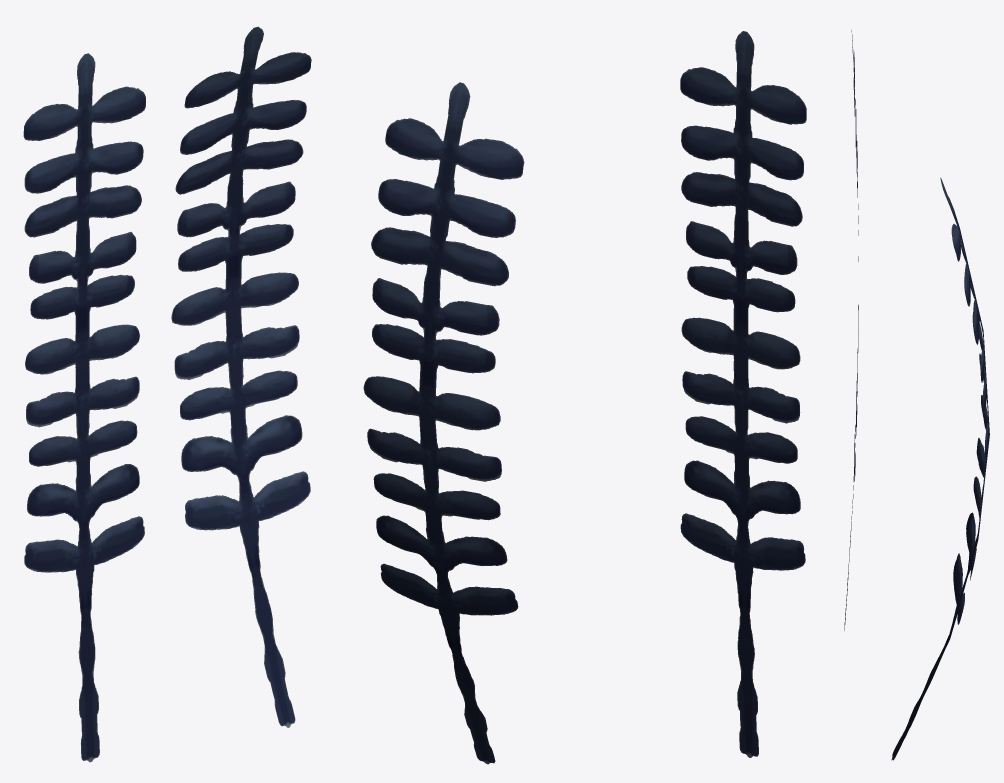
File: blue ferns.fbx
3 renders of one model, left to right at view 1: azimuth 30°, elevation 25°; view 2: azimuth 150°, elevation 25°; view 3: azimuth 270°, elevation 25°, orthographic. The views are drawn at different scales.
Visible parts, largest first — view 1: blue_fern14, blue_fern16; view 2: blue_fern14, blue_fern16; view 3: blue_fern14, blue_fern16.
Part boxes in pixels (x1,y1,x2,y2): blue_fern14: (171, 26, 311, 727); blue_fern16: (23, 53, 145, 762); blue_fern14: (363, 82, 524, 764); blue_fern16: (680, 31, 806, 757); blue_fern14: (891, 177, 989, 760); blue_fern16: (844, 30, 858, 630).
Bounding box in the file's own units: 5.6 × 11.01 × 2.22.
